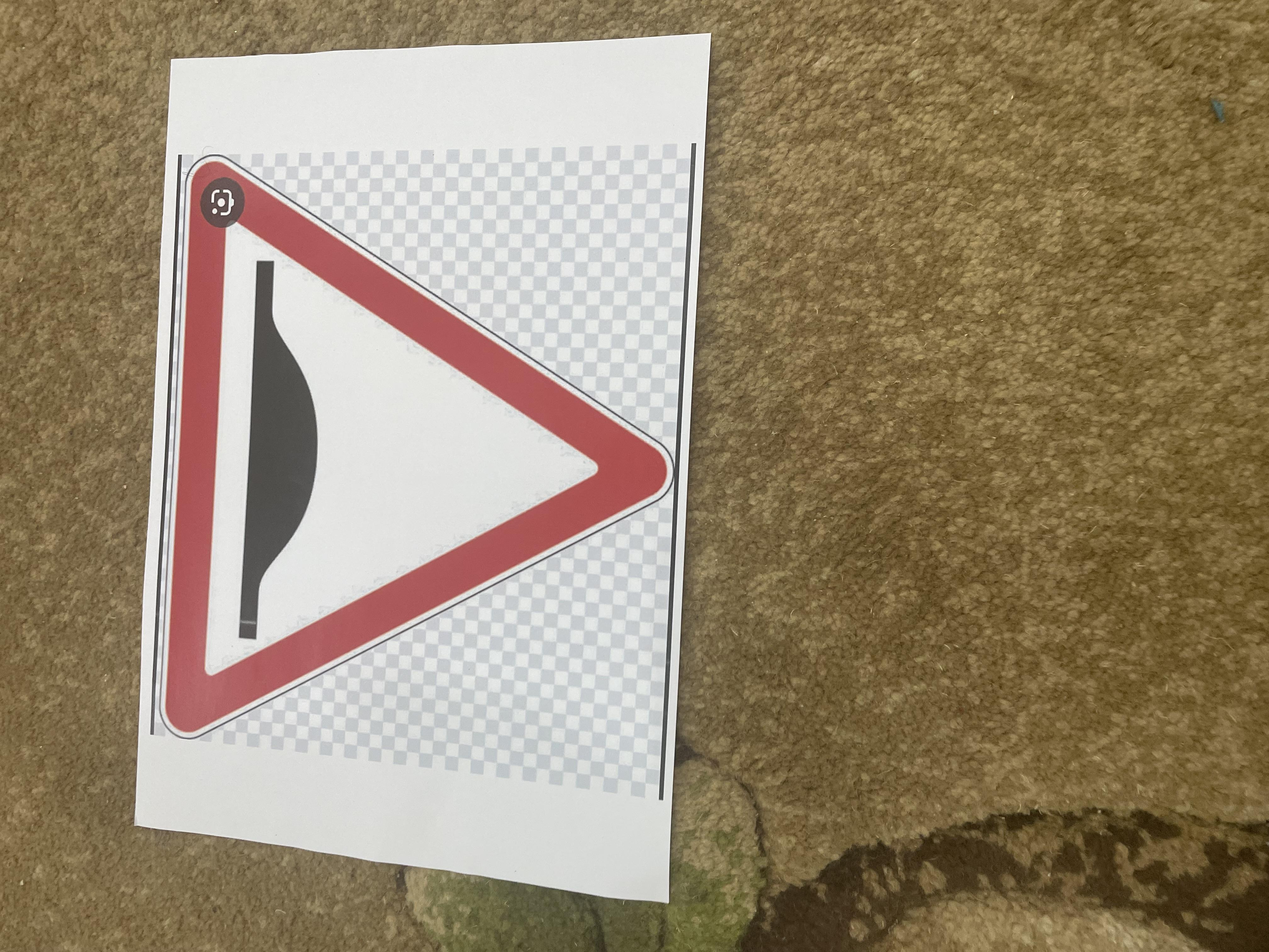Hump: (197, 449, 991, 825)
